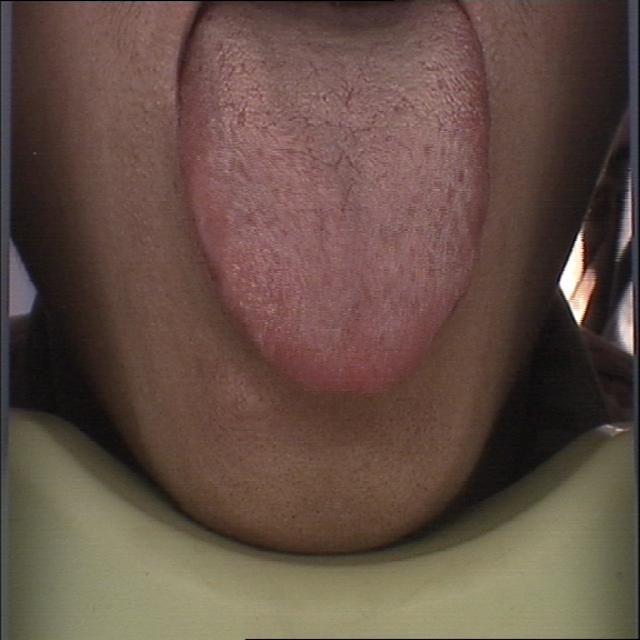tongue: (173, 1, 497, 404)
